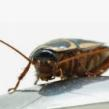cockroach: (25, 38, 109, 84)
